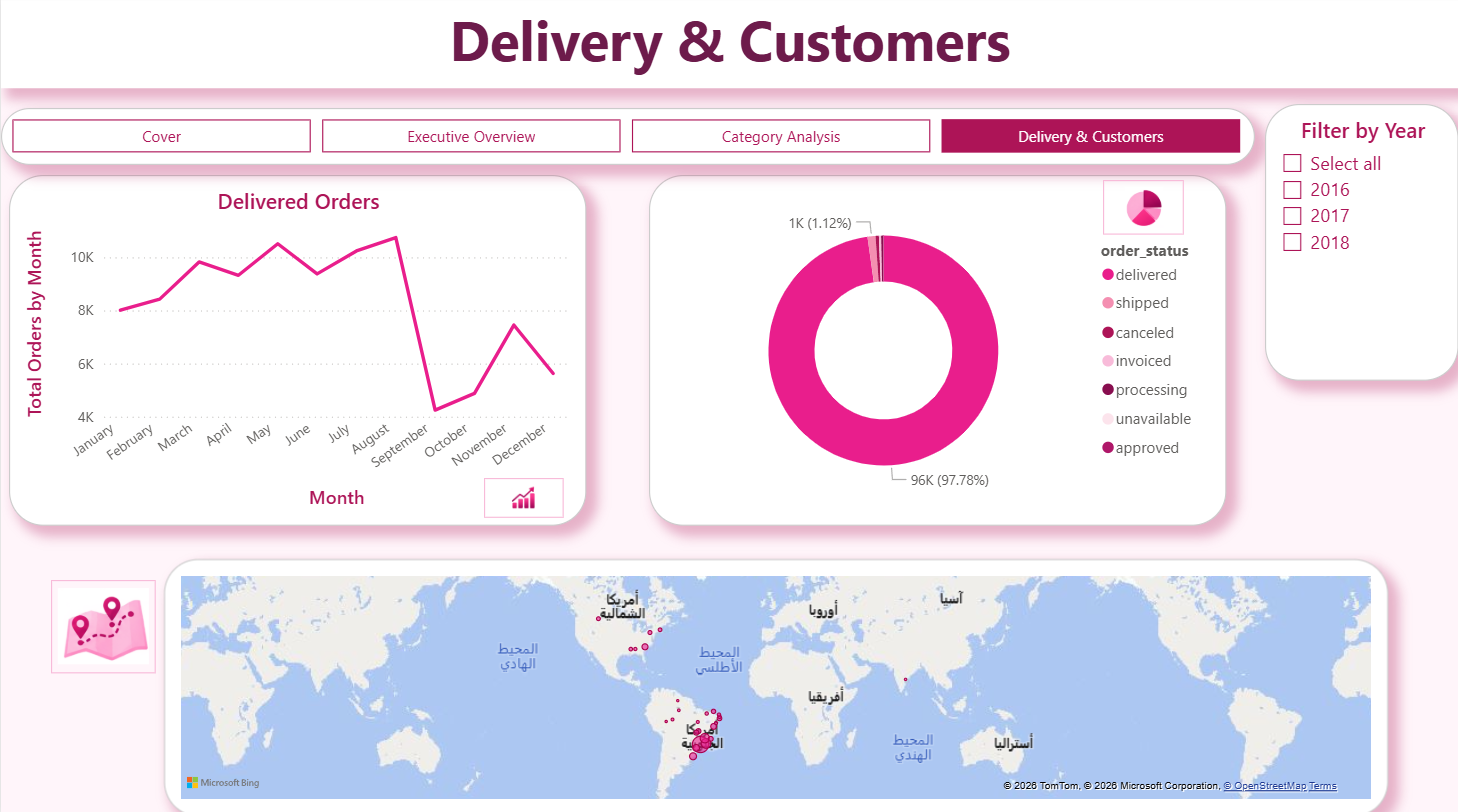

The page's visual inventory and layout, read from the dashboard file:
{"tool":"powerbi","page":{"name":"Delivery & Customers","canvas":[1280,720],"ordinal":3},"visuals":[{"type":"donutChart","fields":{"Category":["olist_orders_dataset.order_status"],"Y":["Key Measures.Total Orders"]},"box":[569,157.2,506.6,308.2],"z":0},{"type":"map","fields":{"Category":["olist_customers_dataset.customer_state"],"Size":["Key Measures.Total Orders"]},"box":[143,494.1,1074.8,225.7],"z":1000},{"type":"lineChart","title":"Delivered Orders","fields":{"Category":["olist_orders_dataset.order_purchase_timestamp.Variation.Date Hierarchy.Month"],"Y":["Key Measures.Total Orders"]},"box":[7,157.2,506.6,308.2],"z":2000},{"type":"textbox","box":[0,0,1280.2,80.8],"z":3000},{"type":"pageNavigator","box":[0,98.2,1101,49.6],"z":4000},{"type":"image","box":[424.1,423.2,70.2,35.1],"z":5000},{"type":"image","box":[967.6,161.6,71.1,48.3],"z":6000},{"type":"listSlicer","title":"Filter by Year","fields":{"Values":["olist_orders_dataset.order_purchase_timestamp.Variation.Date Hierarchy.Year"]},"box":[1109.7,94.8,170.3,243.2],"z":7000},{"type":"image","box":[43.9,512.8,92.2,81.7],"z":8000}]}

Visuals, with their boxes in screenshot pixels (x1, y1, x2, y2), scaled from the page's 1280x720 canvas onto the 1458x812 screenshot:
donutChart - olist_orders_dataset.order_status x Key Measures.Total Orders: left=648, top=177, right=1225, bottom=525
map - olist_customers_dataset.customer_state x Key Measures.Total Orders: left=163, top=557, right=1387, bottom=811
"Delivered Orders" lineChart: left=8, top=177, right=585, bottom=525
textbox: left=0, top=0, right=1457, bottom=91
pageNavigator: left=0, top=111, right=1254, bottom=167
image: left=483, top=477, right=563, bottom=517
image: left=1102, top=182, right=1183, bottom=237
"Filter by Year" listSlicer: left=1264, top=107, right=1457, bottom=381
image: left=50, top=578, right=155, bottom=670
